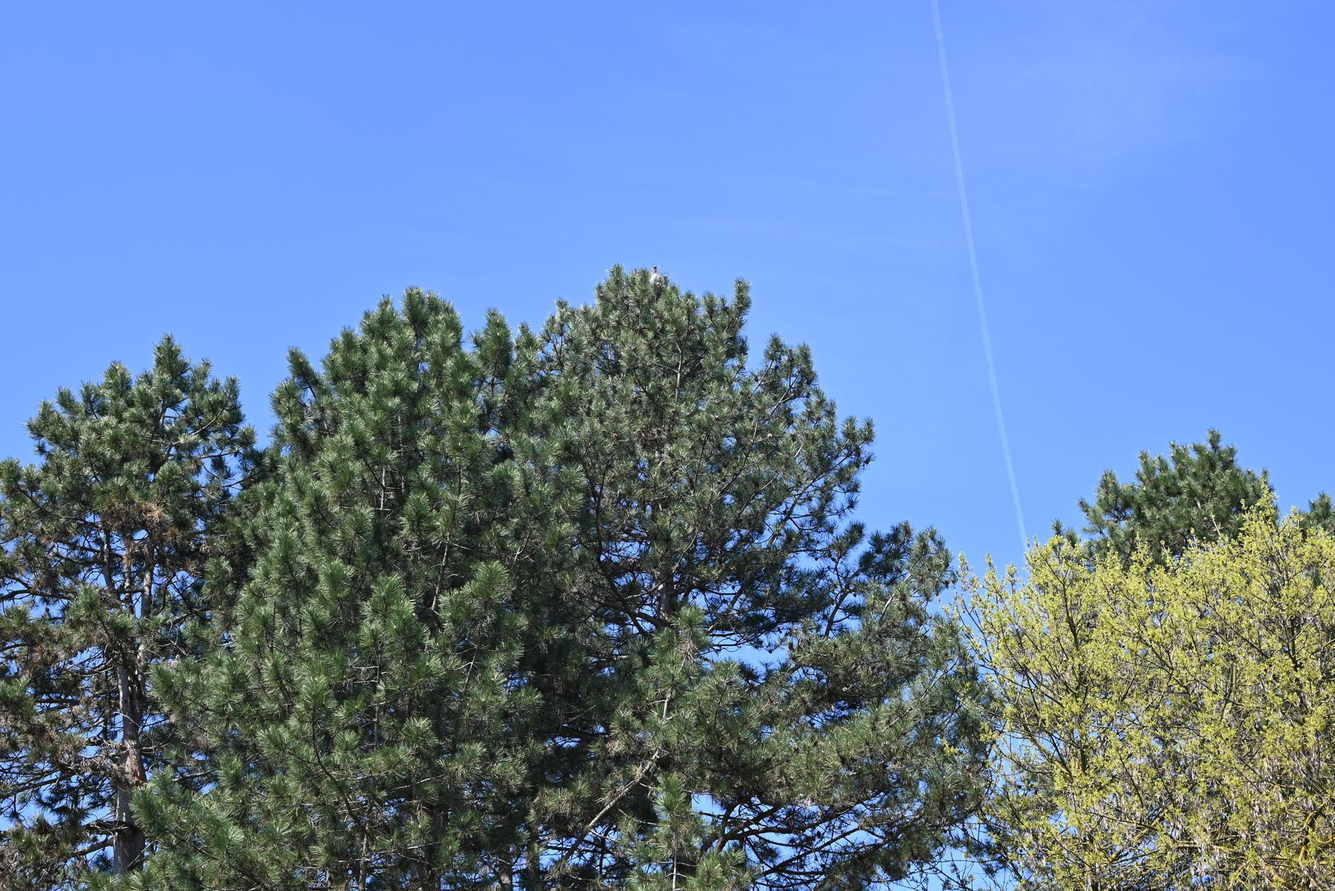thaumatopoea pityocampa jajno gnijezdo: (649, 271, 661, 286)
